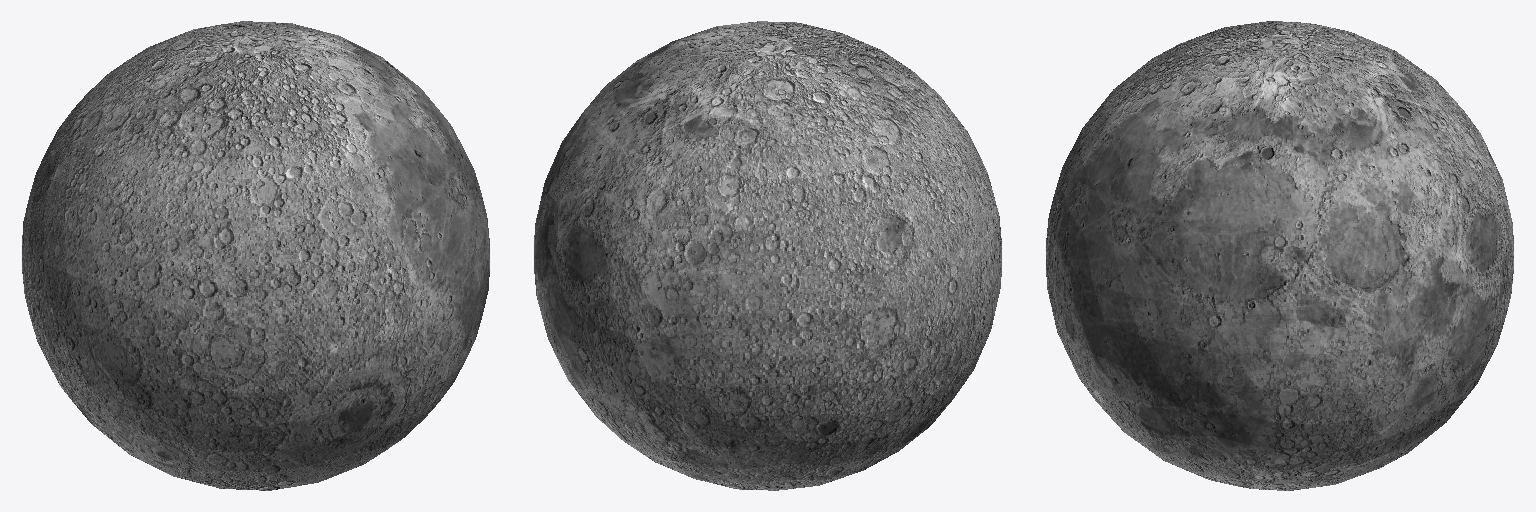
3 renders of one model, left to right at view 1: azimuth 30°, elevation 25°; view 2: azimuth 150°, elevation 25°; view 3: azimuth 270°, elevation 25°, orthographic.
Size of the model in its own units: 2 by 2 by 1.99.
1 materials, 1 textured.